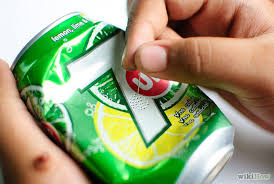can: (16, 9, 236, 184)
